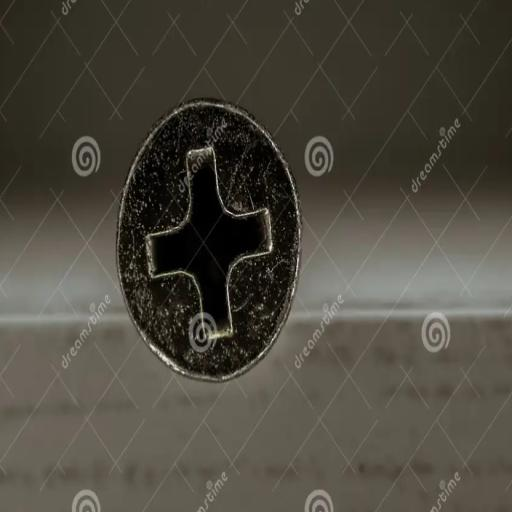Phillips: (114, 103, 301, 386)
